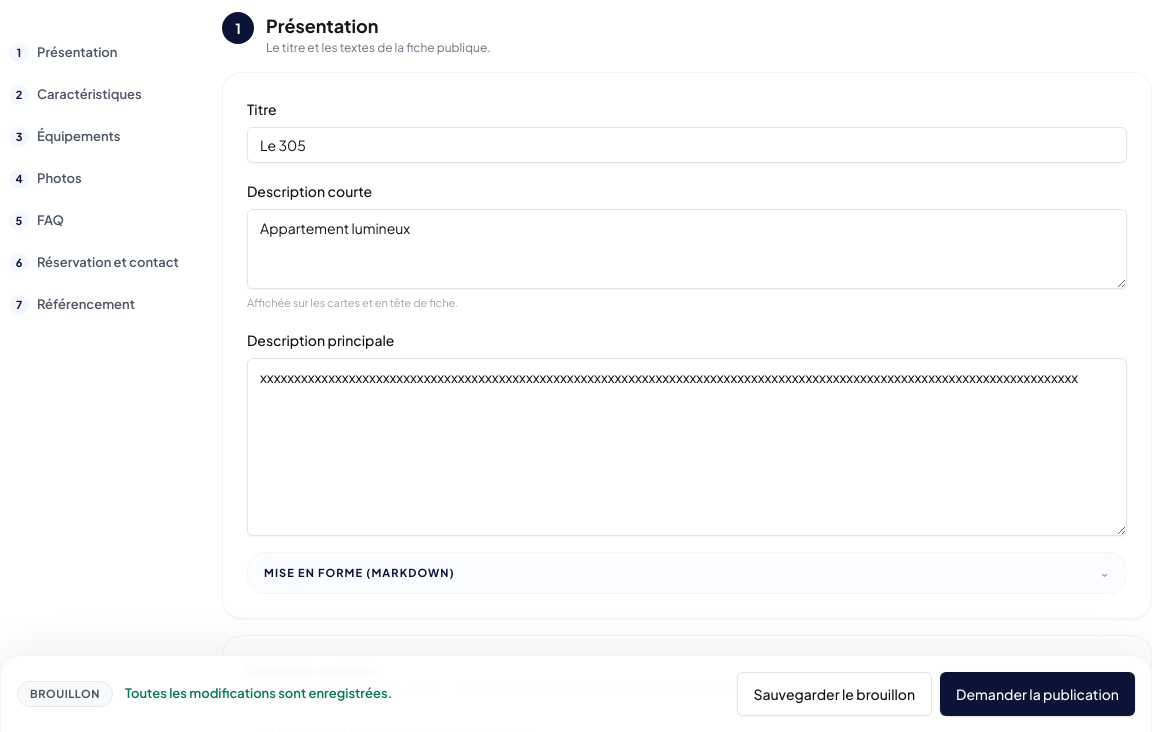
Test: 079 — page Logement › AC-03-02 : statut en français, état des modifications, publication après sauvegarde
Expected: the text with test id "publication-status" reads "Brouillon", left=30, top=687, right=100, bottom=700
Expected: the message named "État de l’enregistrement" reads "Toutes les modifications sont enregistrées.", left=125, top=685, right=392, bottom=701
Replace the text in the field labelled "Titre" with "Le 305 rénové" at (687, 145), box left=247, top=127, right=1127, bottom=163
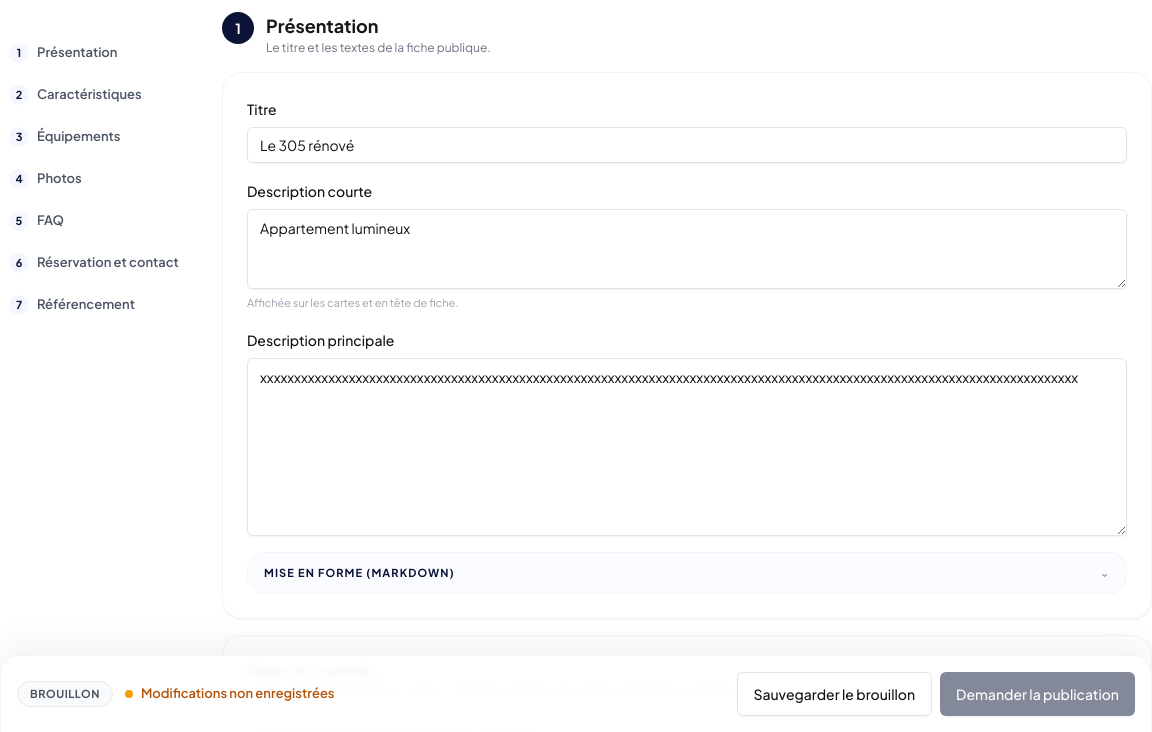
Expected: the message named "État de l’enregistrement" reads "Modifications non enregistrées", left=141, top=685, right=334, bottom=701
Expected: the button "Demander la publication" is disabled, left=940, top=672, right=1135, bottom=716
Click the button "Sauvegarder le brouillon" at (834, 694), box left=737, top=672, right=932, bottom=716
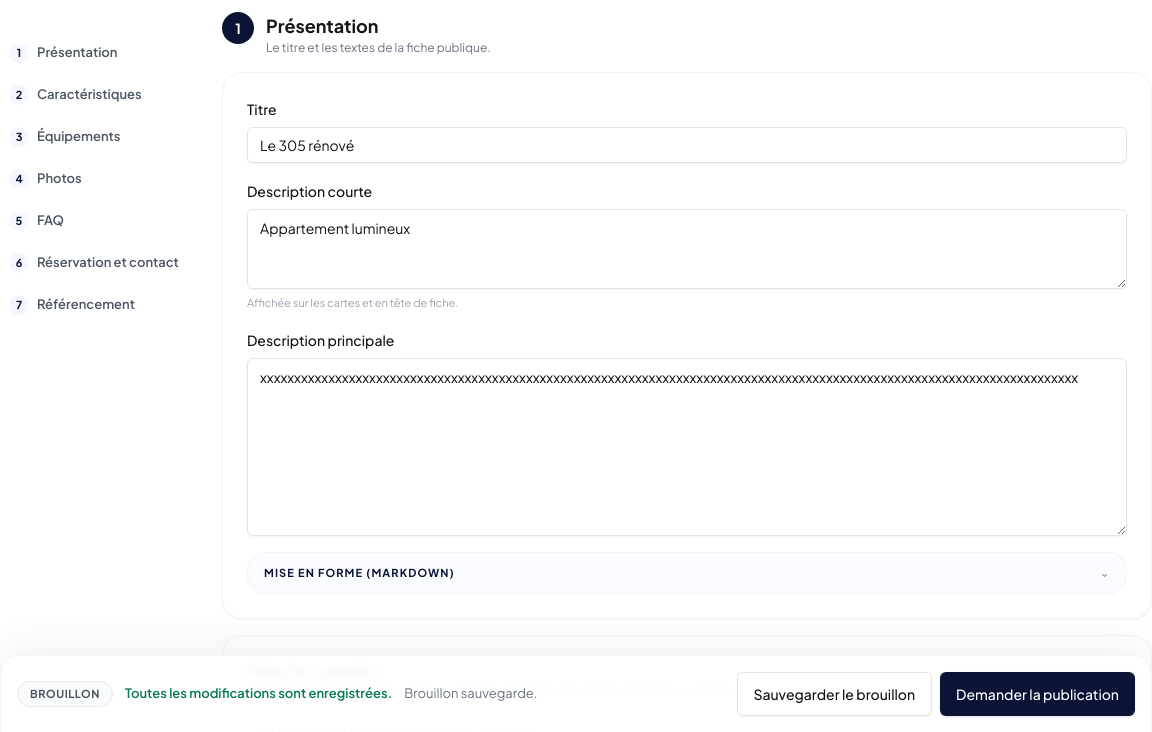
Expected: the message named "État de l’enregistrement" reads "Toutes les modifications sont enregistrées.", left=125, top=685, right=392, bottom=701
Expected: the button "Demander la publication" is enabled, left=940, top=672, right=1135, bottom=716
